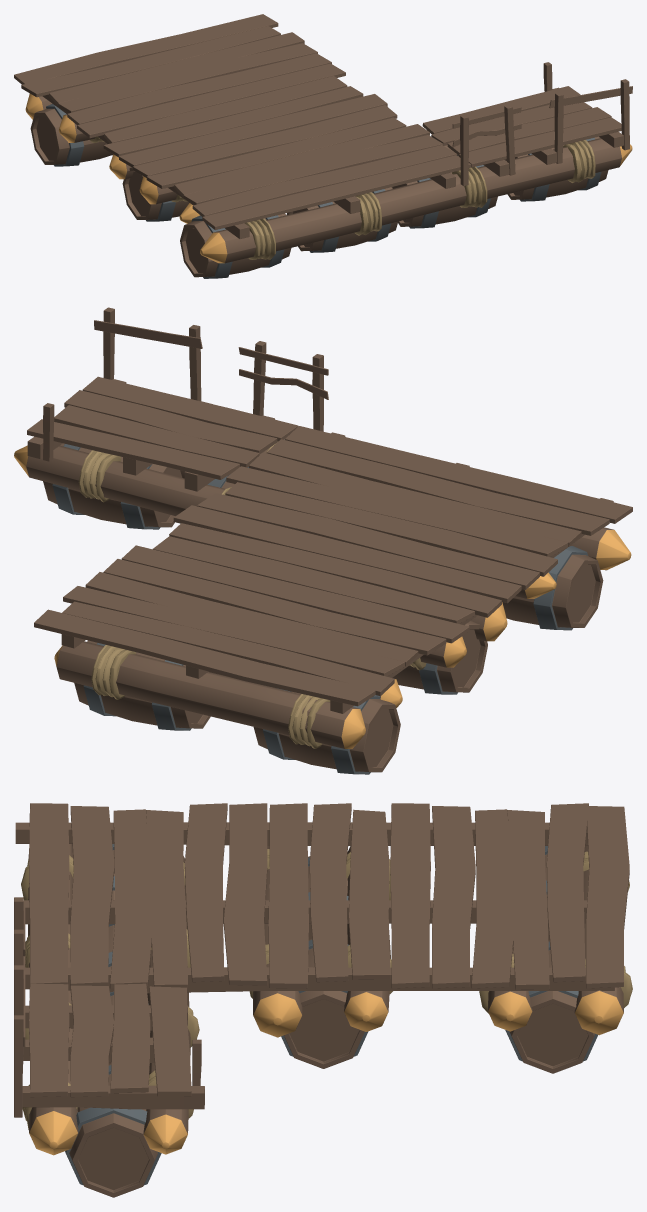
File: Raft.fbx
The picture shows the model from 3 angles, top to bottom: view 1: azimuth 30°, elevation 25°; view 2: azimuth 150°, elevation 25°; view 3: azimuth 270°, elevation 25°; orthographic projection. The views are drawn at different scales.
Parts seen in each view (by area): view 1: Cube.006; view 2: Cube.006; view 3: Cube.006.
Boxes of the visible parts, <box> form: Cube.006: <box>14,14,632,278</box>; Cube.006: <box>14,307,632,774</box>; Cube.006: <box>14,803,632,1197</box>.
Bounding box in the file's own units: 618 × 181 × 532.
